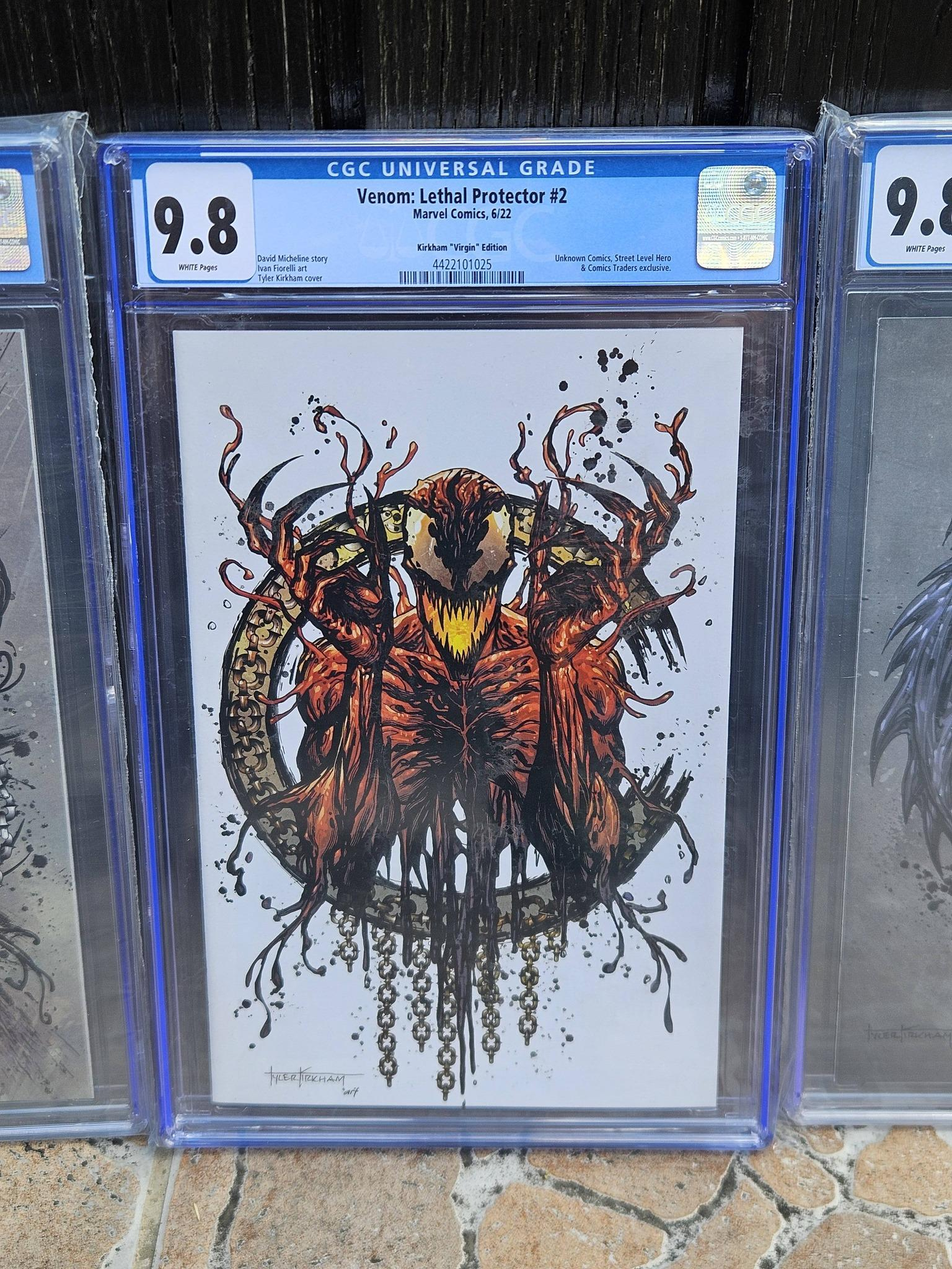comic: (171, 327, 749, 1116)
